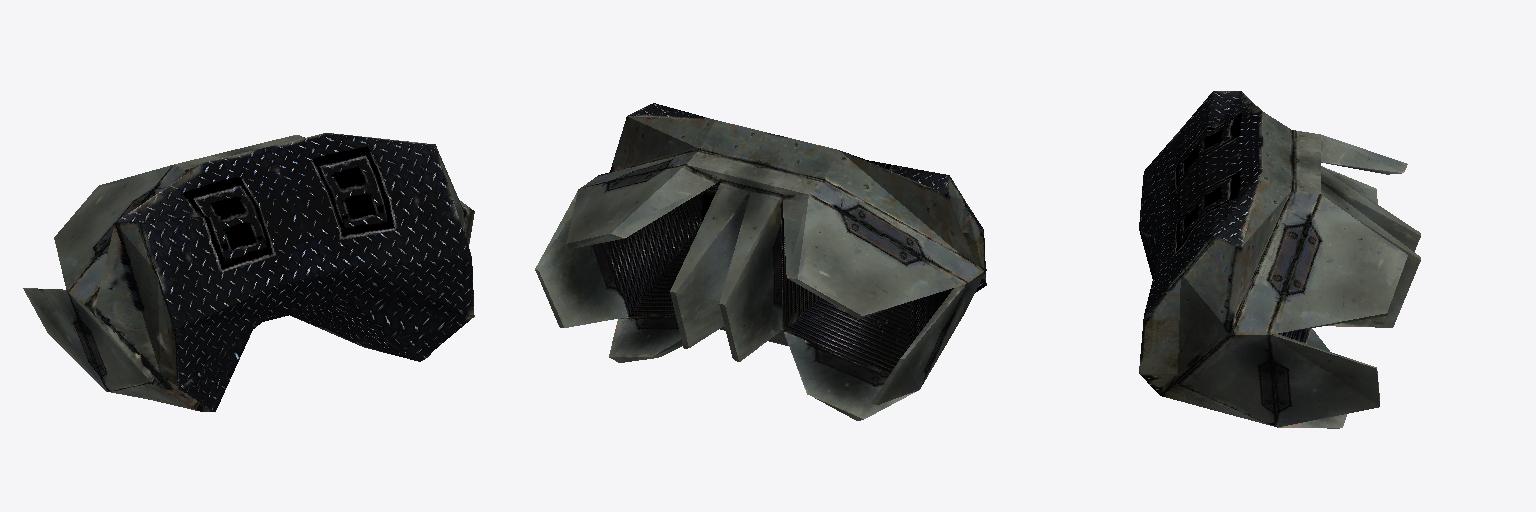
3 views of the same model, side by side, from view 1: azimuth 30°, elevation 25°; view 2: azimuth 150°, elevation 25°; view 3: azimuth 270°, elevation 25° (orthographic).
Visible parts, largest first — view 1: Box001; view 2: Box001; view 3: Box001.
Boxes of the visible parts, x1=… form: Box001: x1=23, y1=133, x2=474, y2=411; Box001: x1=535, y1=103, x2=986, y2=420; Box001: x1=1139, y1=91, x2=1420, y2=428.
Size of the model in its own units: 208 by 118 by 131.
Materials: 1 (1 with a texture image).